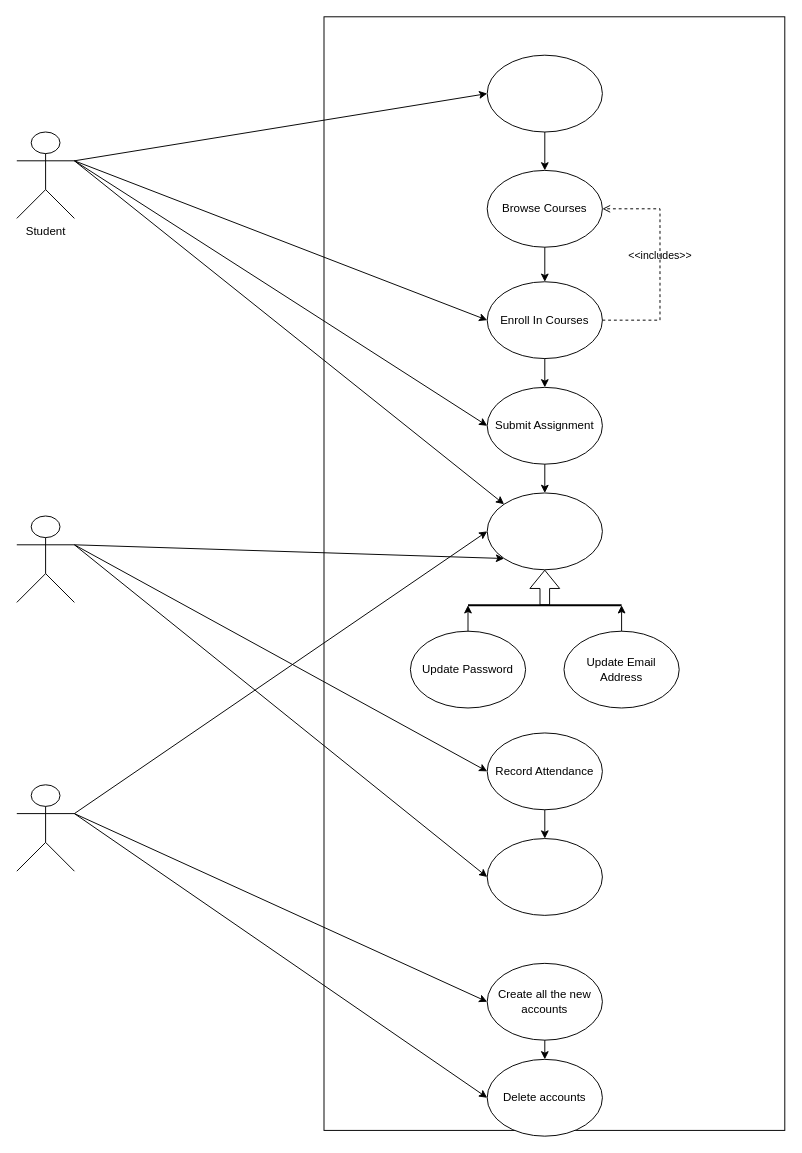
The diagram is 802 pixels wide and 1153 high, and some of its shapes have lost their labels. Each missing label, with the centre of its shape:
Admin: (x=45, y=827)
Create Courses: (x=544, y=876)
Instructor: (x=45, y=558)
LOG IN: (x=544, y=93)
Update User Profile: (x=544, y=531)
